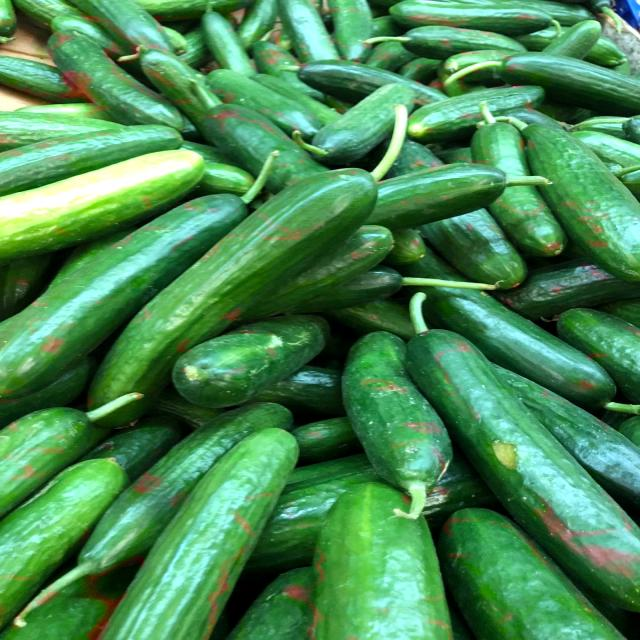cucumber: (85, 105, 428, 427), (396, 286, 640, 623), (92, 413, 303, 640)
